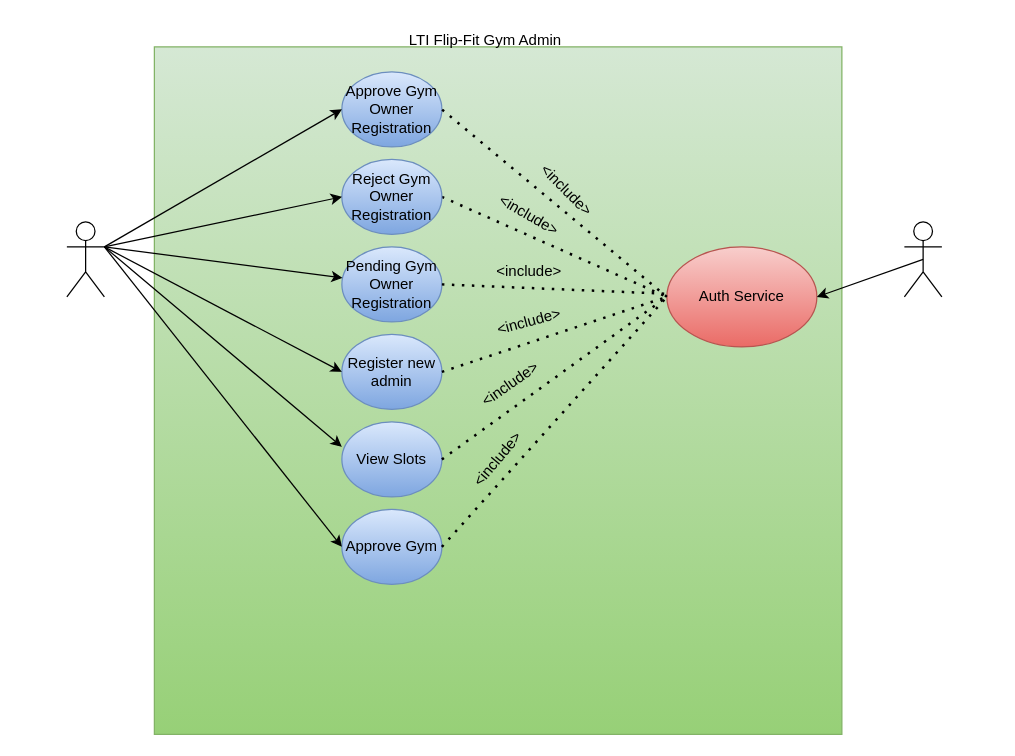
This 1015x756 diagram has some shape labels left out. Here are the shapes that lost their labels. From the top down, the box of each, then its label:
(66, 221, 104, 297): Gym Flip-Fit Admin
(903, 221, 942, 297): Gym Flip-Fit User DB
